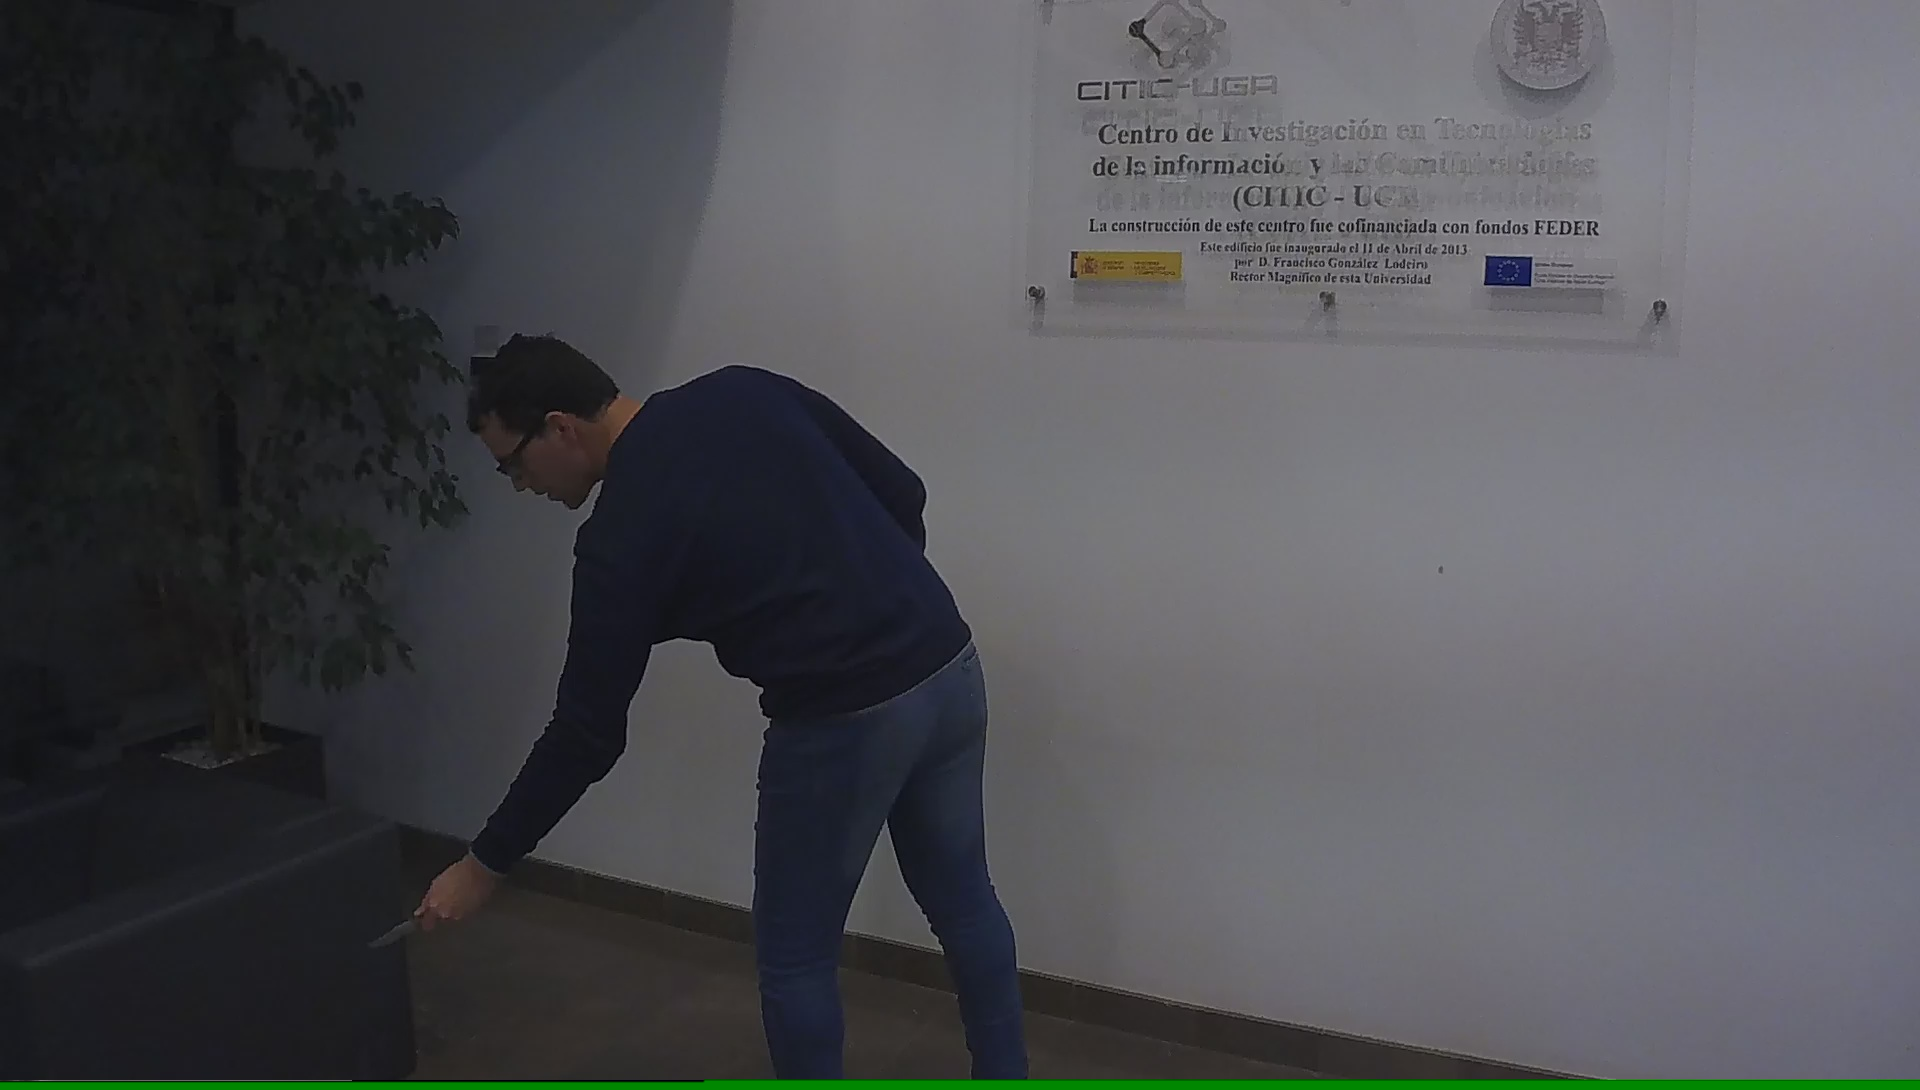knife: (353, 878, 473, 961)
